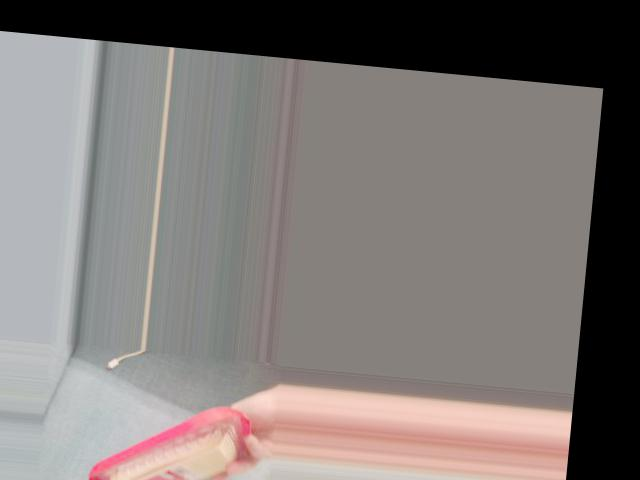cheese: (84, 389, 260, 480)
